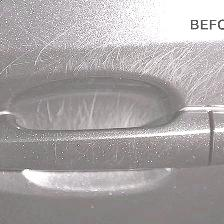door_scratch: (7, 21, 217, 145)
